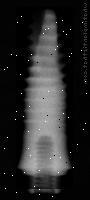DENTSPLY: (8, 6, 74, 190)
